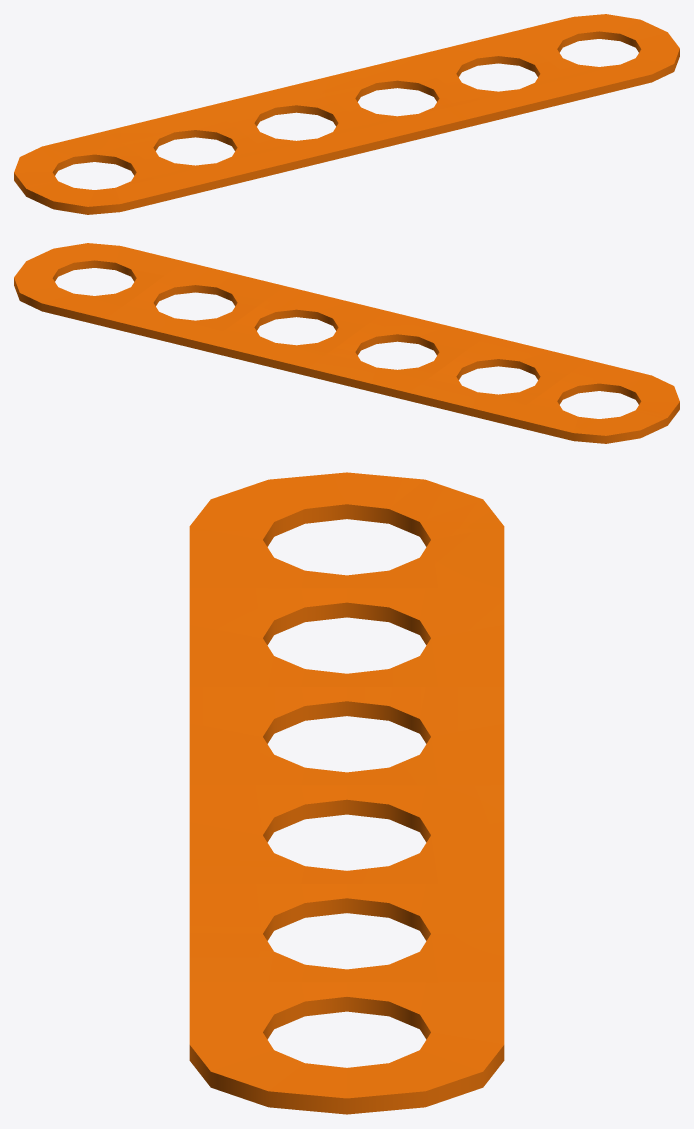
Rendered from SixLongYellow.fbx.
3 views of the same model, one above another, from view 1: azimuth 30°, elevation 25°; view 2: azimuth 150°, elevation 25°; view 3: azimuth 270°, elevation 25° (orthographic). The views are drawn at different scales.
Visible parts, largest first — view 1: Blue6; view 2: Blue6; view 3: Blue6.
Boxes of the visible parts, box(x1,y1,x2,y2) form: Blue6: box(14, 14, 679, 214); Blue6: box(14, 243, 679, 443); Blue6: box(189, 472, 504, 1114).
Bounding box in the file's own units: 16.25 × 0.1942 × 3.45.
